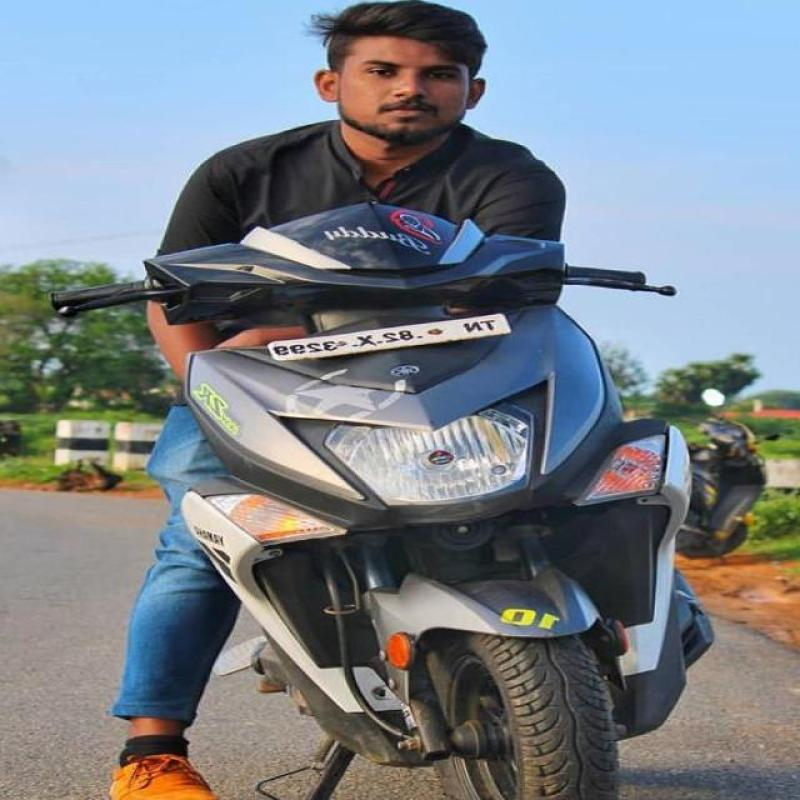nohelmet: (304, 5, 534, 140)
